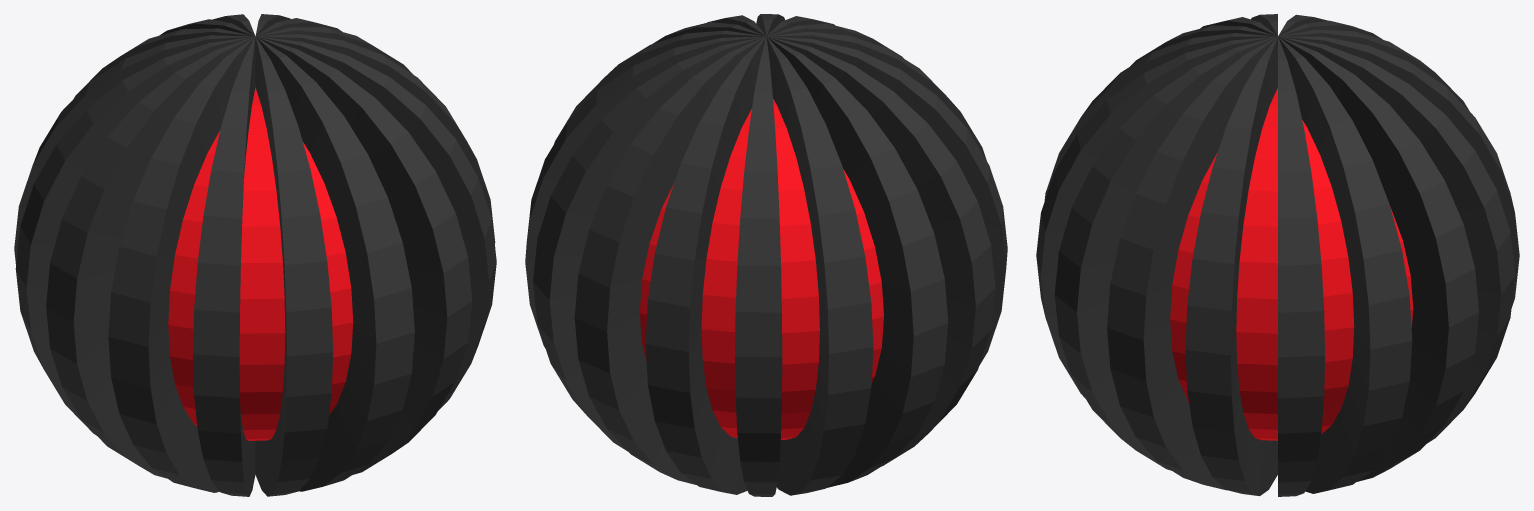
3 views of the same model, side by side, from view 1: azimuth 30°, elevation 25°; view 2: azimuth 150°, elevation 25°; view 3: azimuth 270°, elevation 25° (orthographic).
Visible parts, largest first — view 1: Sphere; view 2: Sphere; view 3: Sphere.
Boxes of the visible parts, x1=… form: Sphere: x1=14, y1=14, x2=496, y2=496; Sphere: x1=525, y1=14, x2=1007, y2=496; Sphere: x1=1036, y1=14, x2=1519, y2=496.
Bounding box in the file's own units: 200 × 200 × 200.
